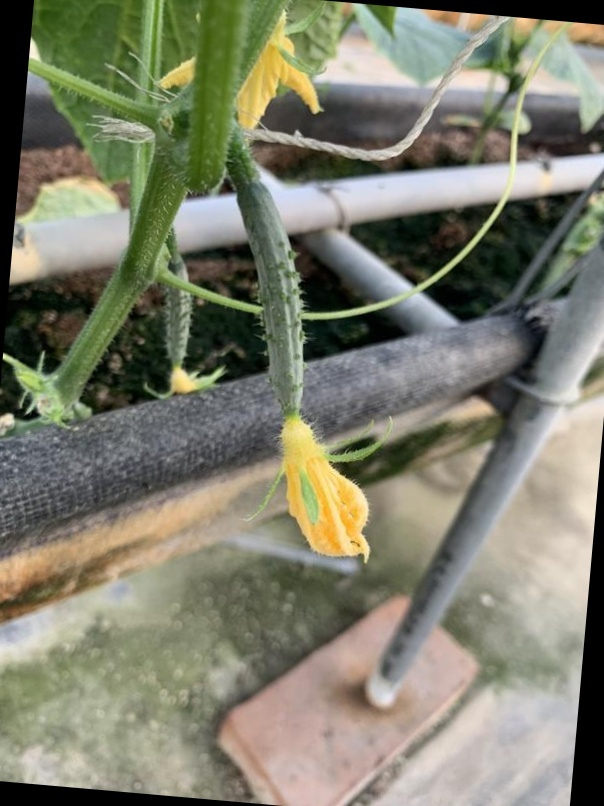bear: (215, 176, 382, 561)
